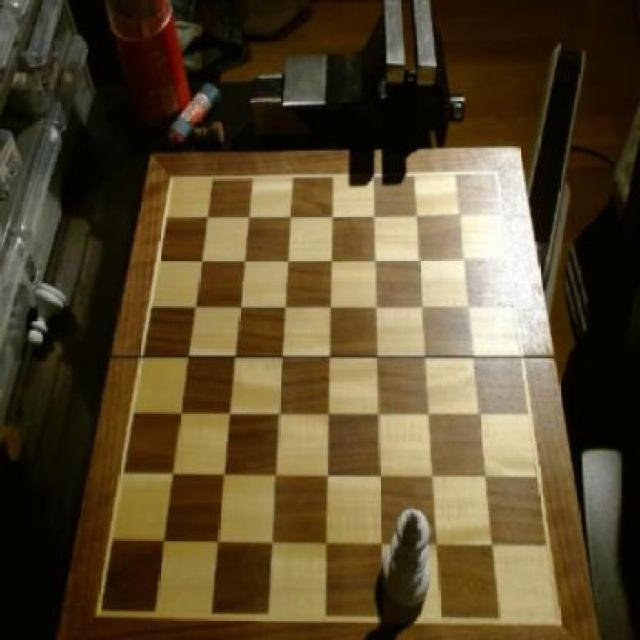white-bishop: (382, 506, 436, 609)
